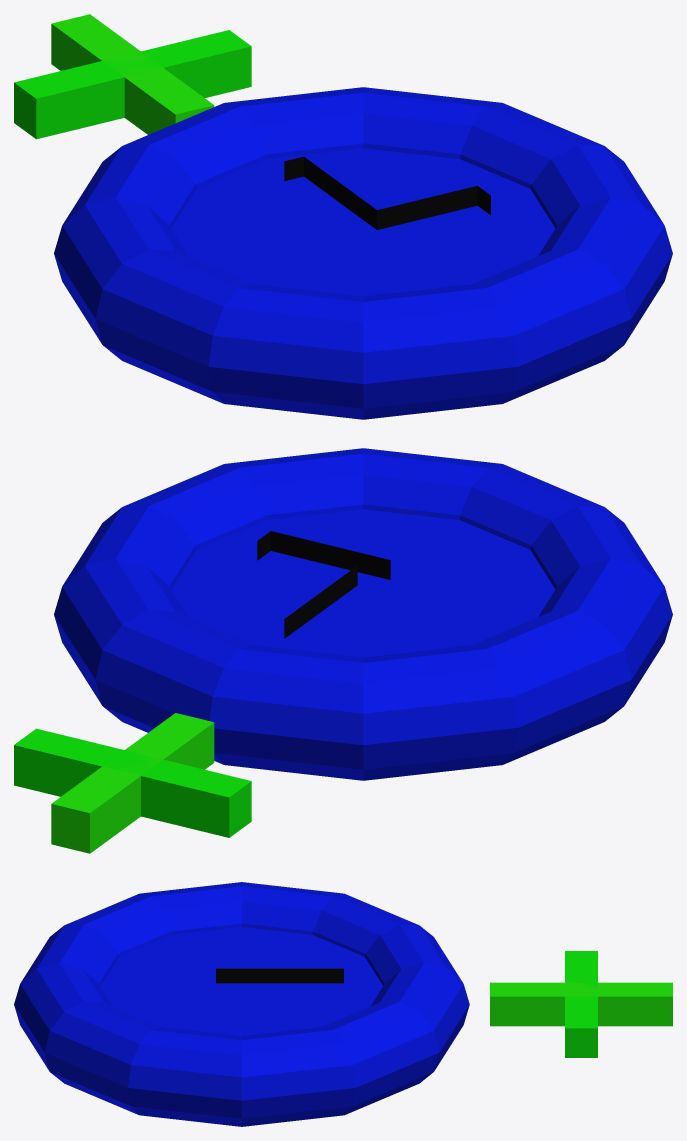
The model's file is ClockPlus.fbx.
The picture shows the model from 3 angles, top to bottom: view 1: azimuth 30°, elevation 25°; view 2: azimuth 150°, elevation 25°; view 3: azimuth 270°, elevation 25°; orthographic projection. The views are drawn at different scales.
Parts seen in each view (by area): view 1: ClockPlus; view 2: ClockPlus; view 3: ClockPlus.
Part boxes in pixels (box(x1,y1,x2,y2)): ClockPlus: box(14, 14, 672, 419); ClockPlus: box(14, 448, 672, 853); ClockPlus: box(14, 882, 672, 1126).
Bounding box in the file's own units: 4.56 × 0.9117 × 6.59.
